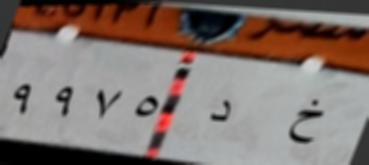5: (134, 84, 168, 125)
7: (87, 86, 125, 124)
9: (6, 80, 38, 123), (50, 81, 77, 120)
daal: (202, 94, 239, 130)
khaa: (280, 93, 330, 160)
